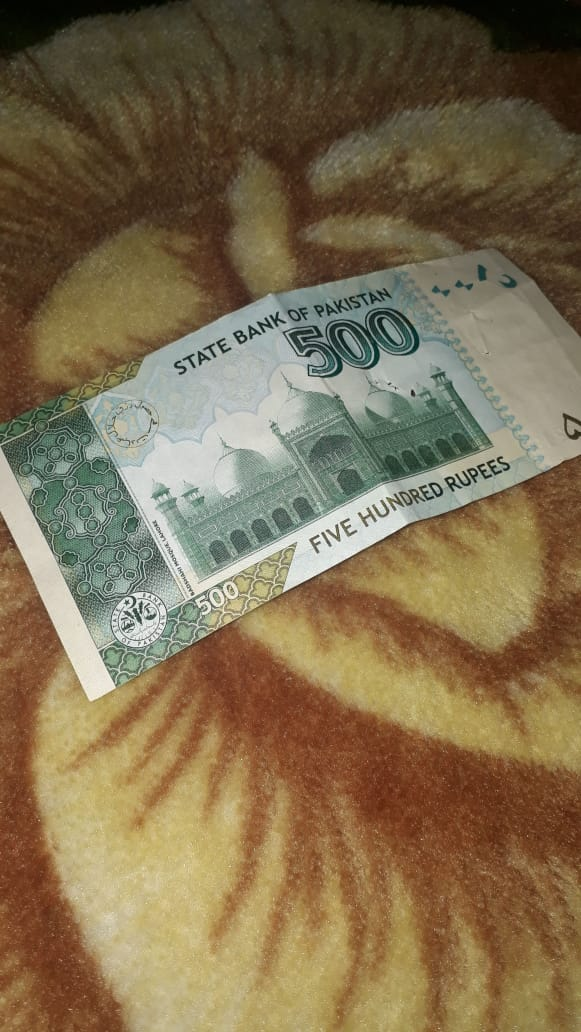500 rupee: (16, 235, 572, 729)
